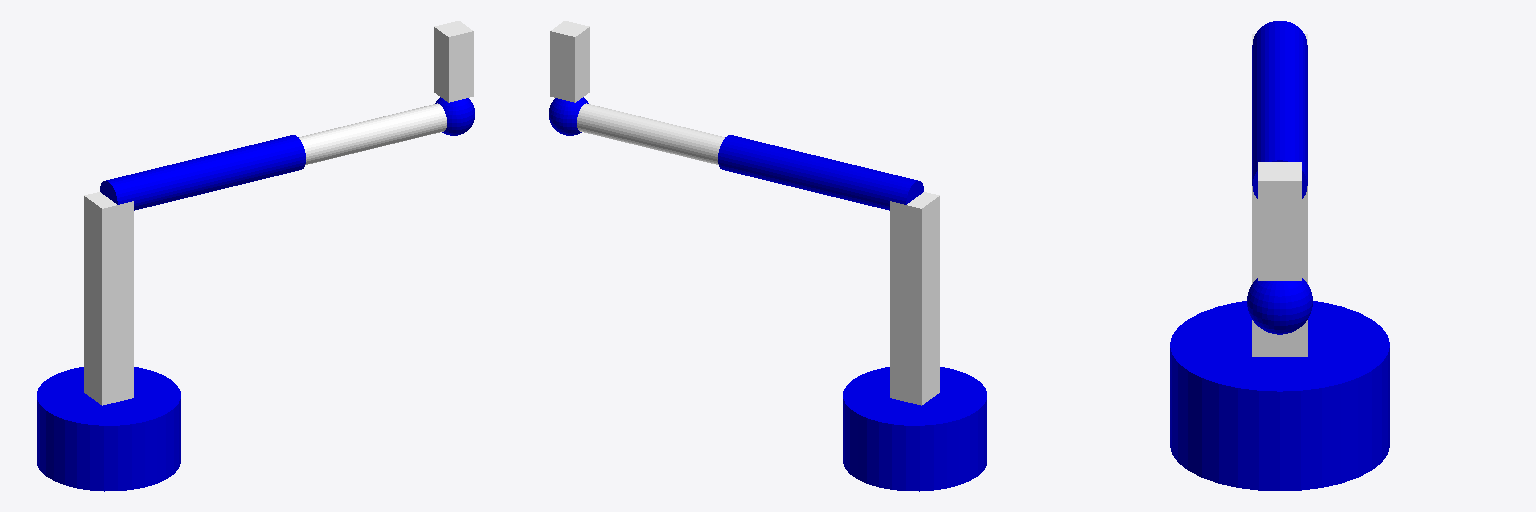
robot.urdf — simple_robot_arm:
<?xml version="1.0"?>
<robot name="simple_robot_arm">

  <!-- Base Link -->
  <link name="base_link">
    <visual>
      <origin xyz="0 0 0.05" rpy="0 0 0"/>
      <geometry>
        <cylinder radius="0.1" length="0.1"/>
      </geometry>
      <material name="blue">
        <color rgba="0.0 0.0 1.0 1.0"/>
      </material>
    </visual>
    <collision>
      <origin xyz="0 0 0.05" rpy="0 0 0"/>
      <geometry>
        <cylinder radius="0.1" length="0.1"/>
      </geometry>
    </collision>
    <inertial>
      <origin xyz="0 0 0.05" rpy="0 0 0"/>
      <mass value="5.0"/>
      <inertia ixx="0.0208" ixy="0" ixz="0" iyy="0.0208" iyz="0" izz="0.025"/>
    </inertial>
  </link>

  <!-- Shoulder Link -->
  <link name="shoulder_link">
    <visual>
      <origin xyz="0 0 0.15" rpy="0 0 0"/>
      <geometry>
        <box size="0.05 0.05 0.3"/>
      </geometry>
      <material name="white">
        <color rgba="1.0 1.0 1.0 1.0"/>
      </material>
    </visual>
    <collision>
      <origin xyz="0 0 0.15" rpy="0 0 0"/>
      <geometry>
        <box size="0.05 0.05 0.3"/>
      </geometry>
    </collision>
    <inertial>
      <origin xyz="0 0 0.15" rpy="0 0 0"/>
      <mass value="2.0"/>
      <inertia ixx="0.0151" ixy="0" ixz="0" iyy="0.0151" iyz="0" izz="0.0021"/>
    </inertial>
  </link>

  <!-- Upper Arm Link -->
  <link name="upper_arm_link">
    <visual>
      <origin xyz="0.15 0 0" rpy="0 1.5708 0"/>
      <geometry>
        <cylinder radius="0.025" length="0.3"/>
      </geometry>
      <material name="blue">
        <color rgba="0.0 0.0 1.0 1.0"/>
      </material>
    </visual>
    <collision>
      <origin xyz="0.15 0 0" rpy="0 1.5708 0"/>
      <geometry>
        <cylinder radius="0.025" length="0.3"/>
      </geometry>
    </collision>
    <inertial>
      <origin xyz="0.15 0 0" rpy="0 1.5708 0"/>
      <mass value="1.5"/>
      <inertia ixx="0.0012" ixy="0" ixz="0" iyy="0.0113" iyz="0" izz="0.0113"/>
    </inertial>
  </link>

  <!-- Forearm Link -->
  <link name="forearm_link">
    <visual>
      <origin xyz="0.125 0 0" rpy="0 1.5708 0"/>
      <geometry>
        <cylinder radius="0.02" length="0.25"/>
      </geometry>
      <material name="white">
        <color rgba="1.0 1.0 1.0 1.0"/>
      </material>
    </visual>
    <collision>
      <origin xyz="0.125 0 0" rpy="0 1.5708 0"/>
      <geometry>
        <cylinder radius="0.02" length="0.25"/>
      </geometry>
    </collision>
    <inertial>
      <origin xyz="0.125 0 0" rpy="0 1.5708 0"/>
      <mass value="1.0"/>
      <inertia ixx="0.0006" ixy="0" ixz="0" iyy="0.0052" iyz="0" izz="0.0052"/>
    </inertial>
  </link>

  <!-- Wrist Link -->
  <link name="wrist_link">
    <visual>
      <origin xyz="0 0 0" rpy="0 0 0"/>
      <geometry>
        <sphere radius="0.03"/>
      </geometry>
      <material name="blue">
        <color rgba="0.0 0.0 1.0 1.0"/>
      </material>
    </visual>
    <collision>
      <origin xyz="0 0 0" rpy="0 0 0"/>
      <geometry>
        <sphere radius="0.03"/>
      </geometry>
    </collision>
    <inertial>
      <origin xyz="0 0 0" rpy="0 0 0"/>
      <mass value="0.5"/>
      <inertia ixx="0.00018" ixy="0" ixz="0" iyy="0.00018" iyz="0" izz="0.00018"/>
    </inertial>
  </link>

  <!-- End Effector Link -->
  <link name="end_effector">
    <visual>
      <origin xyz="0 0 0.05" rpy="0 0 0"/>
      <geometry>
        <box size="0.04 0.04 0.1"/>
      </geometry>
      <material name="white">
        <color rgba="1.0 1.0 1.0 1.0"/>
      </material>
    </visual>
    <collision>
      <origin xyz="0 0 0.05" rpy="0 0 0"/>
      <geometry>
        <box size="0.04 0.04 0.1"/>
      </geometry>
    </collision>
    <inertial>
      <origin xyz="0 0 0.05" rpy="0 0 0"/>
      <mass value="0.2"/>
      <inertia ixx="0.00003" ixy="0" ixz="0" iyy="0.00003" iyz="0" izz="0.000013"/>
    </inertial>
  </link>

  <!-- Shoulder Joint - Rotates around Z-axis -->
  <joint name="shoulder_joint" type="revolute">
    <parent link="base_link"/>
    <child link="shoulder_link"/>
    <origin xyz="0 0 0.1" rpy="0 0 0"/>
    <axis xyz="0 0 1"/>
    <limit lower="-3.14159" upper="3.14159" effort="100" velocity="2.0"/>
    <dynamics damping="0.5" friction="0.1"/>
  </joint>

  <!-- Elbow Joint - Rotates around Y-axis -->
  <joint name="elbow_joint" type="revolute">
    <parent link="shoulder_link"/>
    <child link="upper_arm_link"/>
    <origin xyz="0 0 0.3" rpy="0 0 0"/>
    <axis xyz="0 1 0"/>
    <limit lower="-1.5708" upper="1.5708" effort="50" velocity="2.0"/>
    <dynamics damping="0.3" friction="0.05"/>
  </joint>

  <!-- Forearm Joint - Rotates around Y-axis -->
  <joint name="forearm_joint" type="revolute">
    <parent link="upper_arm_link"/>
    <child link="forearm_link"/>
    <origin xyz="0.3 0 0" rpy="0 0 0"/>
    <axis xyz="0 1 0"/>
    <limit lower="-2.618" upper="0" effort="30" velocity="2.0"/>
    <dynamics damping="0.2" friction="0.03"/>
  </joint>

  <!-- Wrist Joint - Rotates around X-axis -->
  <joint name="wrist_joint" type="revolute">
    <parent link="forearm_link"/>
    <child link="wrist_link"/>
    <origin xyz="0.25 0 0" rpy="0 0 0"/>
    <axis xyz="1 0 0"/>
    <limit lower="-1.5708" upper="1.5708" effort="20" velocity="3.0"/>
    <dynamics damping="0.1" friction="0.02"/>
  </joint>

  <!-- End Effector Joint - Fixed connection -->
  <joint name="end_effector_joint" type="fixed">
    <parent link="wrist_link"/>
    <child link="end_effector"/>
    <origin xyz="0 0 0.03" rpy="0 0 0"/>
  </joint>

</robot>

--- Facts derived from the render (not from the file) ---
3 views of the same robot in one strip: view 1: azimuth 30°, elevation 25°; view 2: azimuth 150°, elevation 25°; view 3: azimuth 270°, elevation 25° (orthographic).
Model simple_robot_arm with 6 links and 5 joints (4 revolute, 1 fixed), rooted at base_link, posed every joint at zero.
Visible links, largest first — view 1: base_link, shoulder_link, upper_arm_link, forearm_link, end_effector, wrist_link; view 2: base_link, shoulder_link, upper_arm_link, forearm_link, end_effector, wrist_link; view 3: base_link, upper_arm_link, end_effector, wrist_link, shoulder_link.
Link boxes in pixels (left/top/right/bottom): base_link: left=37, top=367, right=180, bottom=491; shoulder_link: left=84, top=192, right=133, bottom=405; upper_arm_link: left=100, top=135, right=305, bottom=210; forearm_link: left=299, top=103, right=446, bottom=164; end_effector: left=434, top=21, right=473, bottom=102; wrist_link: left=435, top=97, right=474, bottom=135; base_link: left=843, top=367, right=986, bottom=491; shoulder_link: left=890, top=192, right=939, bottom=405; upper_arm_link: left=718, top=135, right=923, bottom=210; forearm_link: left=577, top=103, right=724, bottom=164; end_effector: left=550, top=21, right=589, bottom=102; wrist_link: left=549, top=97, right=588, bottom=135; base_link: left=1170, top=301, right=1389, bottom=490; upper_arm_link: left=1252, top=21, right=1307, bottom=198; end_effector: left=1258, top=162, right=1301, bottom=280; wrist_link: left=1247, top=278, right=1312, bottom=334; shoulder_link: left=1252, top=34, right=1307, bottom=356.
Bounding box of the posed robot: 0.68 × 0.2 × 0.53 m (x, y, z).
Geometry: primitives only (box / cylinder / sphere), no mesh files.